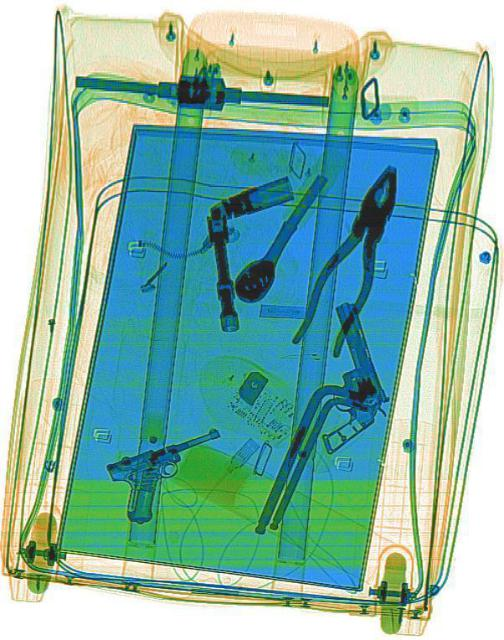Gun: (285, 296, 394, 454), (105, 420, 232, 528)
Pliers: (288, 150, 411, 366)
